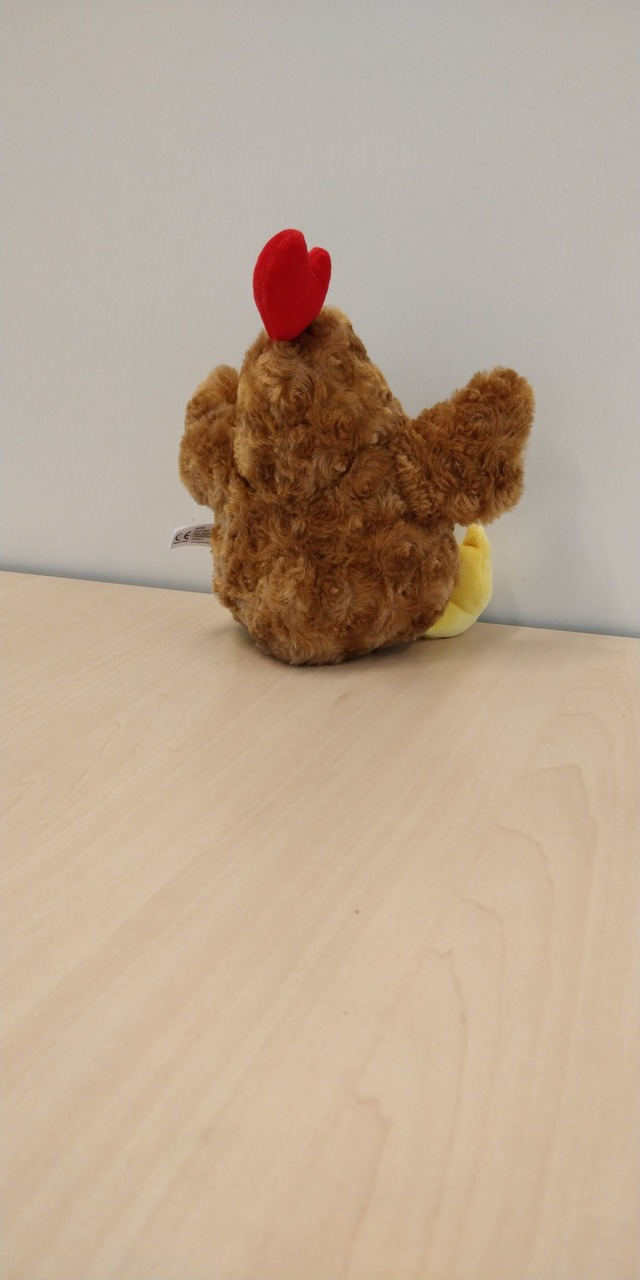fakeChicken: (177, 227, 539, 668)
